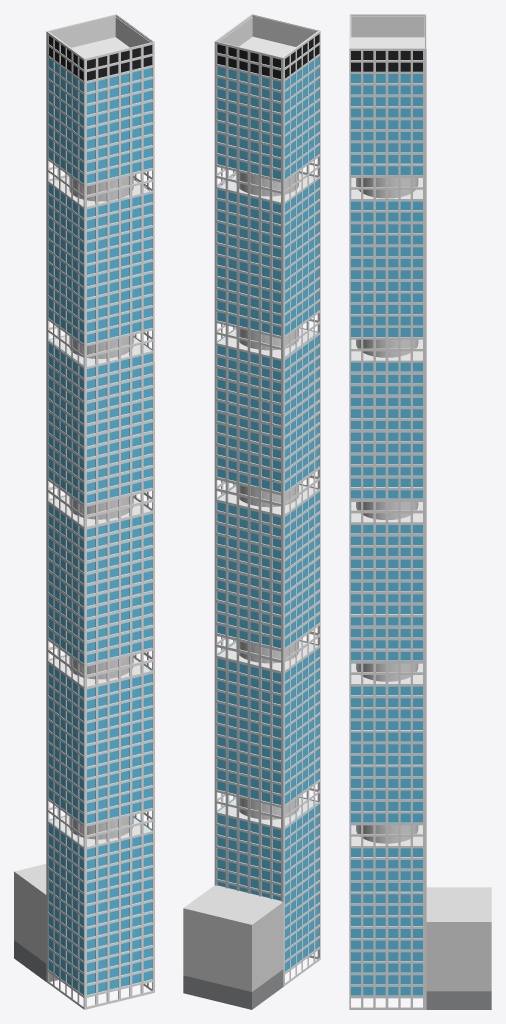
Rendered from 432_park.glb.
3 views of the same model, side by side, from view 1: azimuth 30°, elevation 25°; view 2: azimuth 150°, elevation 25°; view 3: azimuth 270°, elevation 25° (orthographic). The views are drawn at different scales.
Visible parts, largest first — view 1: Object_2; view 2: Object_2; view 3: Object_2.
Part boxes in pixels (box(x1,y1,x2,y2)): Object_2: box(14, 14, 154, 1009); Object_2: box(183, 14, 320, 1009); Object_2: box(349, 14, 491, 1009).
Size of the model in its own units: 11.71 by 151 by 20.26.
Materials: 1 (1 with a texture image).
